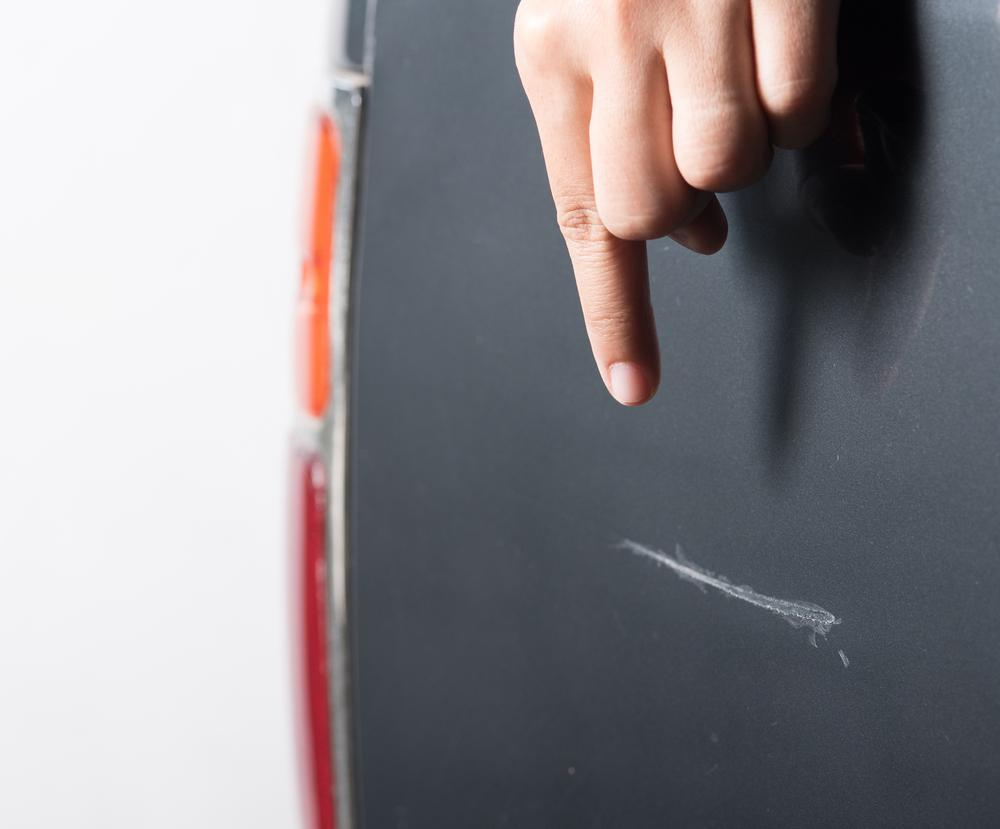scratch: (608, 530, 858, 647)
